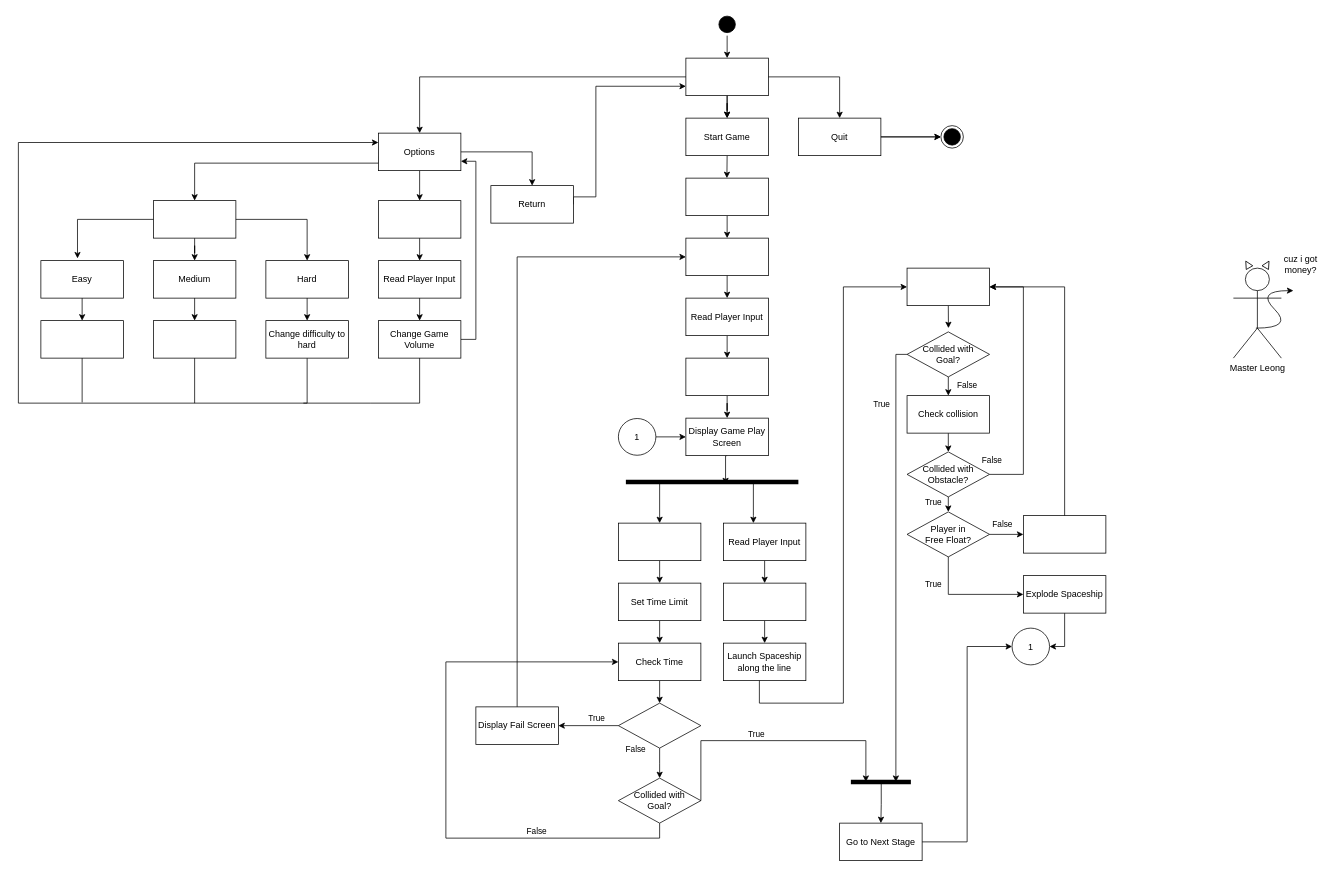
Some shapes in this 1337 by 874 pixel diagram are drawn without their labels. The centre of each missing label's shape, as x and y in pixels:
"Change difficulty to easy" belongs at point 81,339.
"Change difficulty to medium" belongs at point 194,339.
"Check collision with goal" belongs at point 948,286.
"Check Difficulty" belongs at point 659,541.
"Difficulty" belongs at point 194,219.
"Display Main Menu" belongs at point 726,76.
"Display Stage Choose Menu" belongs at point 726,256.
"Display Story" belongs at point 726,196.
"Draw Line" belongs at point 764,601.
"Enter Free Float" belongs at point 1064,534.
"Go to Stage 1" belongs at point 726,376.
"Time == 0?" belongs at point 659,725.
"Volume" belongs at point 419,219.
